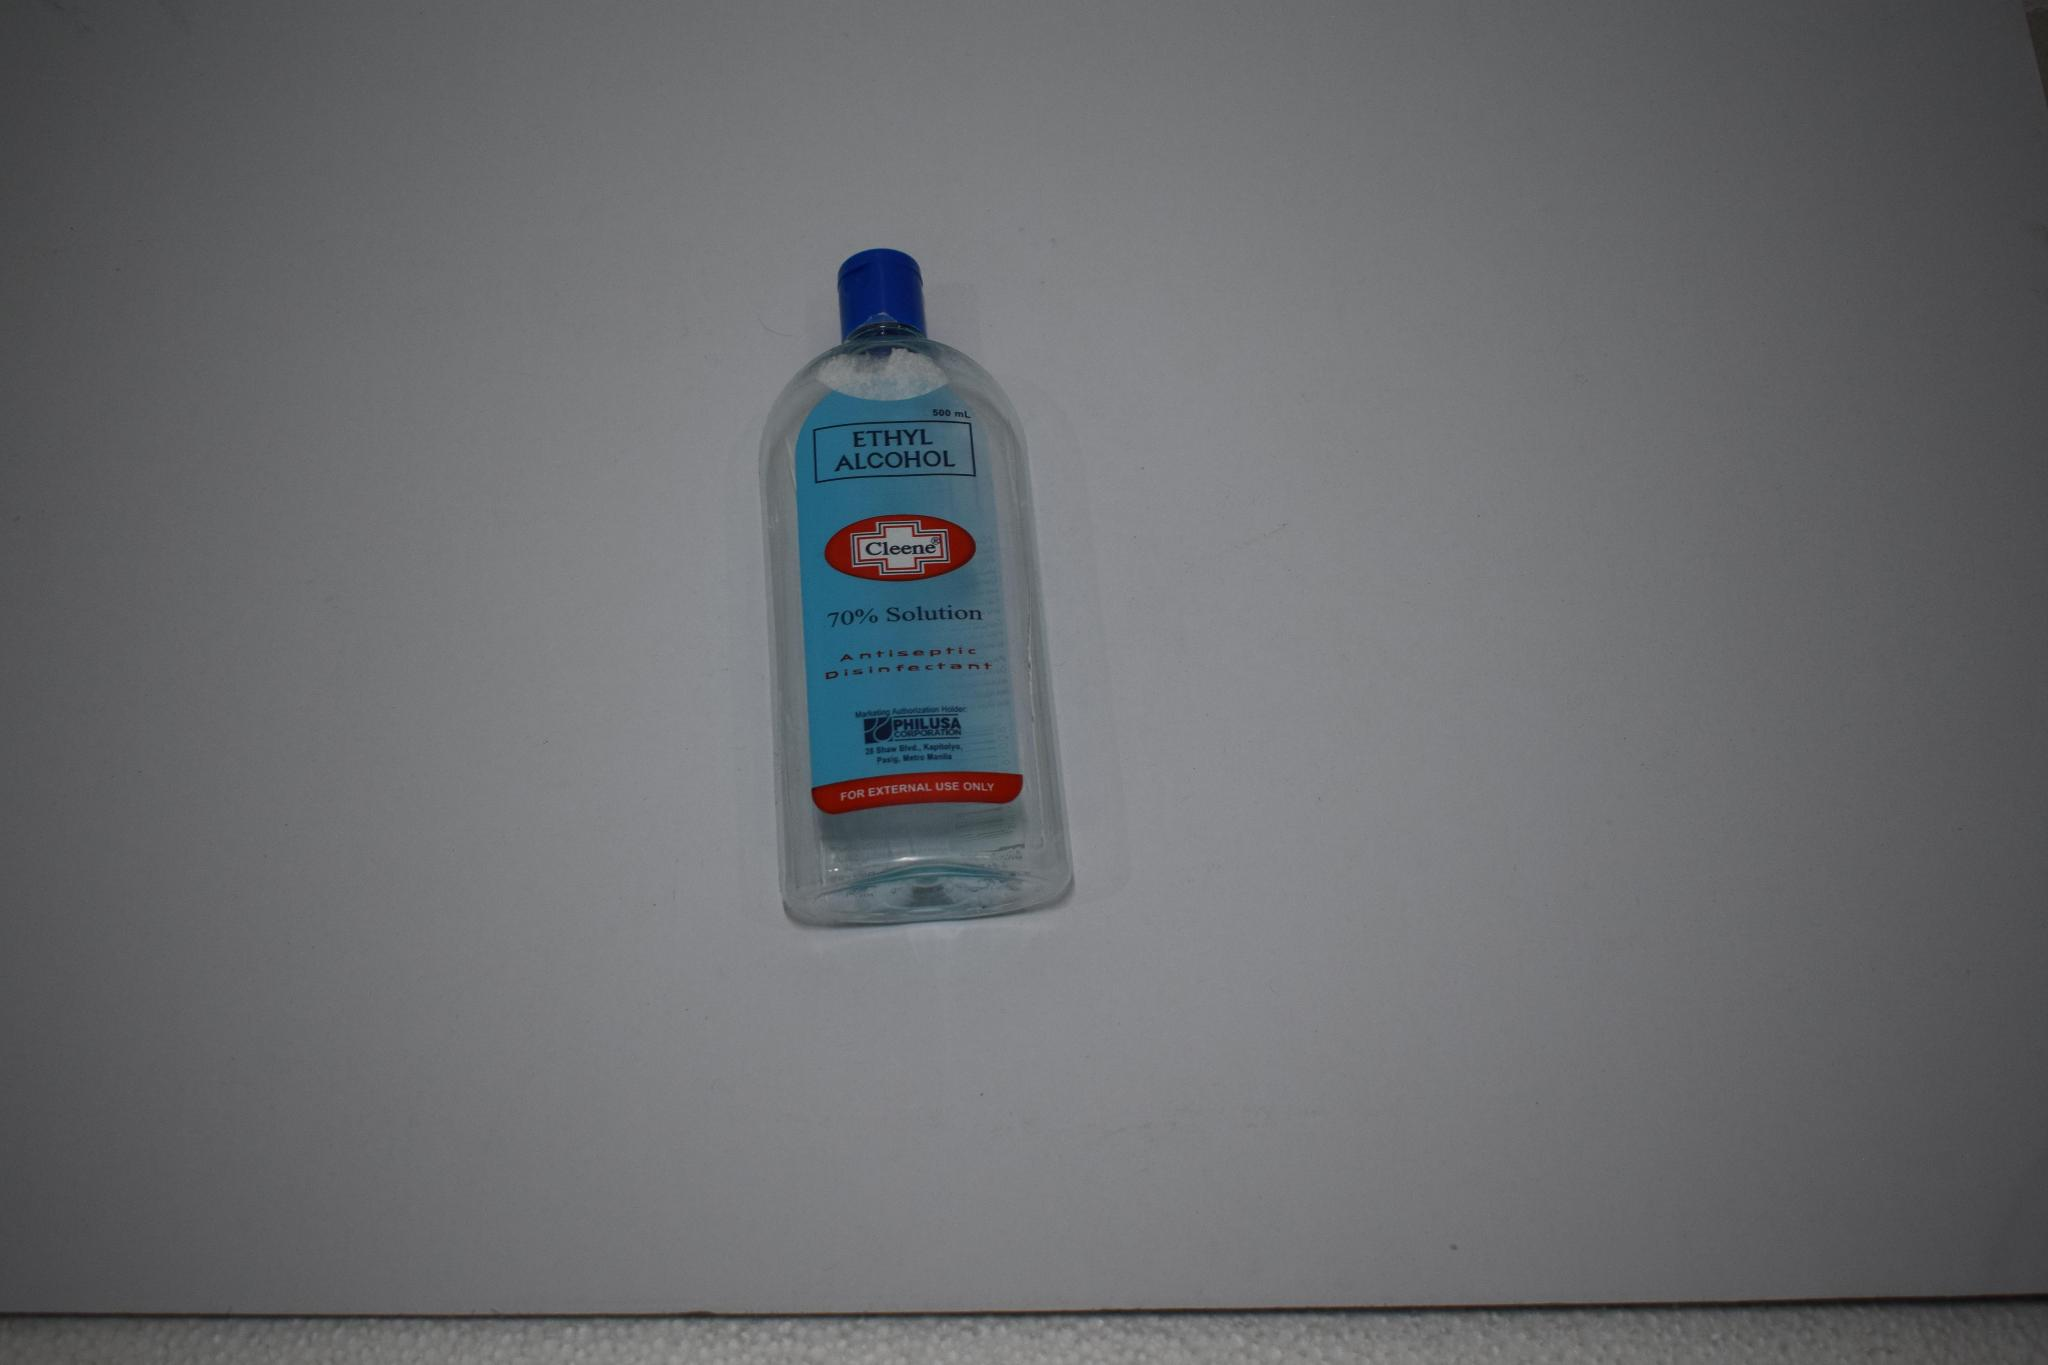bottle: (717, 230, 1127, 960)
